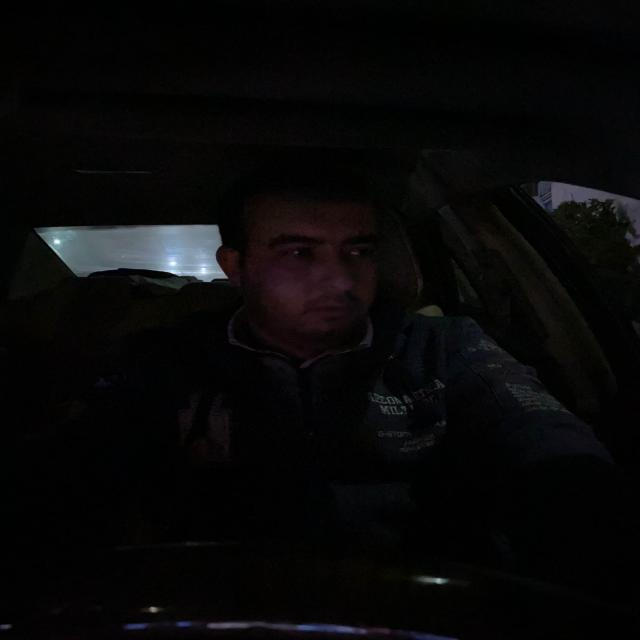person: (215, 191, 395, 336)
